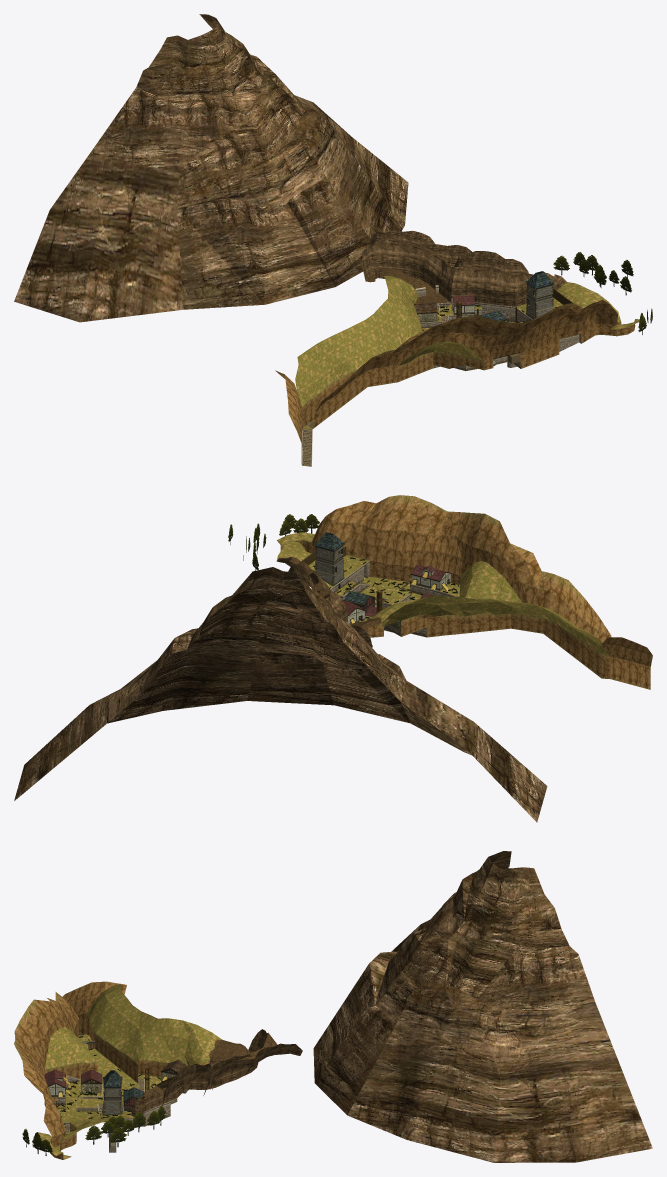
File: Kakariko Village.fbx
3 renders of one model, top to bottom at view 1: azimuth 30°, elevation 25°; view 2: azimuth 150°, elevation 25°; view 3: azimuth 270°, elevation 25°, orthographic. The views are drawn at different scales.
Parts seen in each view (by area): view 1: obj7, obj8, obj6, obj5, obj17, obj1, obj13, obj18; view 2: obj7, obj8, obj6, obj18, obj5, obj17, obj13, obj15, obj1; view 3: obj7, obj6, obj8, obj17, obj1, obj18, obj5, obj13.
Boxes of the visible parts, left/top/right/bottom form: obj7: left=14, top=14, right=566, bottom=322; obj8: left=275, top=298, right=635, bottom=464; obj6: left=295, top=276, right=645, bottom=429; obj5: left=416, top=286, right=581, bottom=370; obj17: left=553, top=252, right=652, bottom=334; obj1: left=366, top=236, right=533, bottom=303; obj13: left=525, top=279, right=554, bottom=320; obj18: left=414, top=271, right=554, bottom=359; obj7: left=14, top=556, right=547, bottom=822; obj8: left=280, top=495, right=652, bottom=689; obj6: left=276, top=532, right=609, bottom=656; obj18: left=315, top=532, right=450, bottom=626; obj5: left=330, top=560, right=455, bottom=637; obj17: left=228, top=514, right=319, bottom=570; obj13: left=314, top=541, right=344, bottom=590; obj15: left=320, top=569, right=450, bottom=623; obj1: left=289, top=557, right=390, bottom=646; obj7: left=131, top=851, right=652, bottom=1162; obj6: left=38, top=984, right=211, bottom=1159; obj8: left=14, top=981, right=204, bottom=1159; obj17: left=22, top=1106, right=165, bottom=1155; obj1: left=143, top=1033, right=277, bottom=1098; obj18: left=44, top=1068, right=182, bottom=1107; obj5: left=52, top=1074, right=212, bottom=1132; obj13: left=82, top=1069, right=177, bottom=1114.
Size of the model in its own units: 989082 by 510240 by 1199066.
29 materials, 29 textured.
